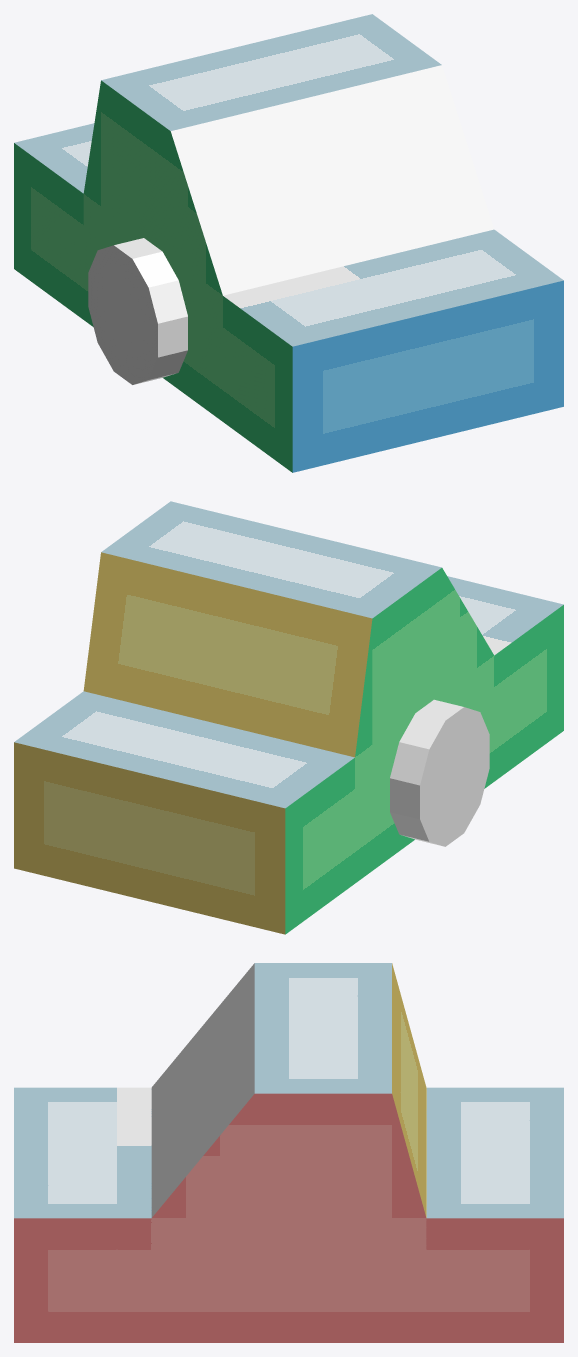
File: boxycar.gltf
The picture shows the model from 3 angles, top to bottom: view 1: azimuth 30°, elevation 25°; view 2: azimuth 150°, elevation 25°; view 3: azimuth 270°, elevation 25°; orthographic projection.
Visible parts, largest first — view 1: cube, cylinder; view 2: cube, cylinder; view 3: cube.
Boxes of the visible parts, x1,y1,x2,y2 form: cube: (14, 14, 563, 472); cylinder: (88, 238, 187, 384); cube: (14, 501, 563, 934); cylinder: (390, 699, 489, 846); cube: (14, 963, 563, 1342).
Size of the model in its own units: 0.625 by 0.5 by 1.
2 materials, 1 textured.
